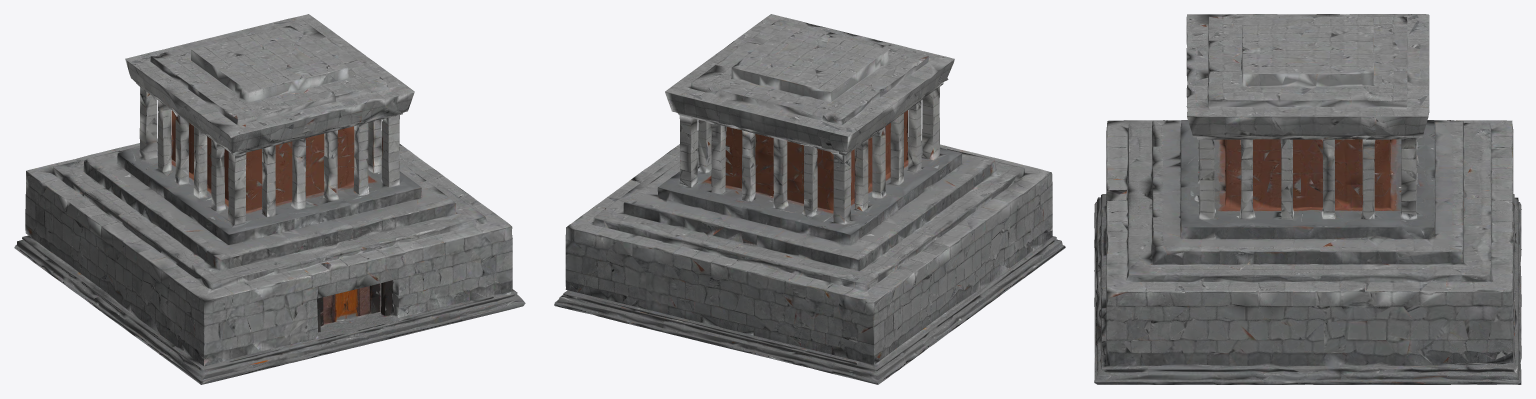
Rendered from lang-bac.glb.
3 views of the same model, side by side, from view 1: azimuth 30°, elevation 25°; view 2: azimuth 150°, elevation 25°; view 3: azimuth 270°, elevation 25° (orthographic). The views are drawn at different scales.
Size of the model in its own units: 1 by 0.6433 by 1.
1 material, 1 textured.
